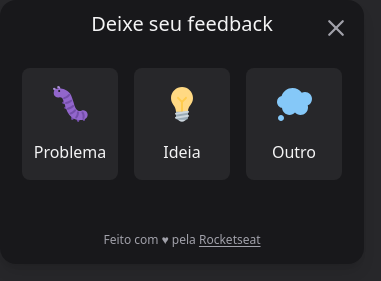
it: WidgetForm main › should show the SuccessFeedback step when the feedback has been sent successfully
Click the button "Problema". click: point(70, 124)
box: [22,68,118,180]
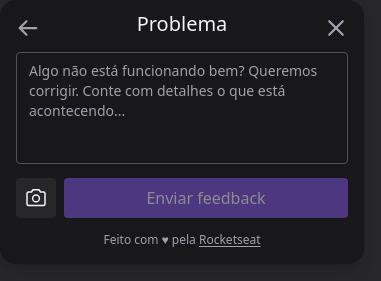
Type "abcdefghij" into the text box. click: point(182, 108)
box: [16,52,348,164]
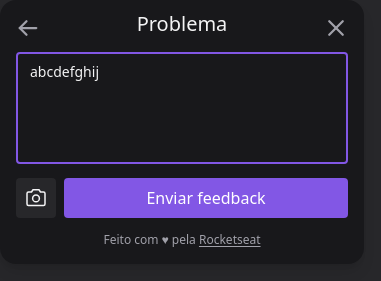
Click the button "Enviar feedback". click: point(206, 198)
box: [64,178,348,218]
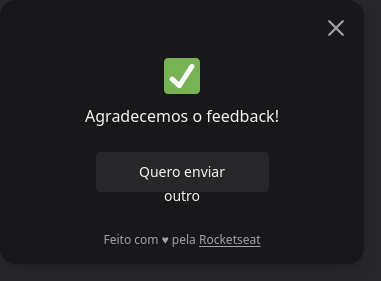
Check: the heading "Agradecemos o feedback!" is shown, box [85,104,279,128]
Check: the button "Quero enviar outro" is shown, box [96,152,268,192]
